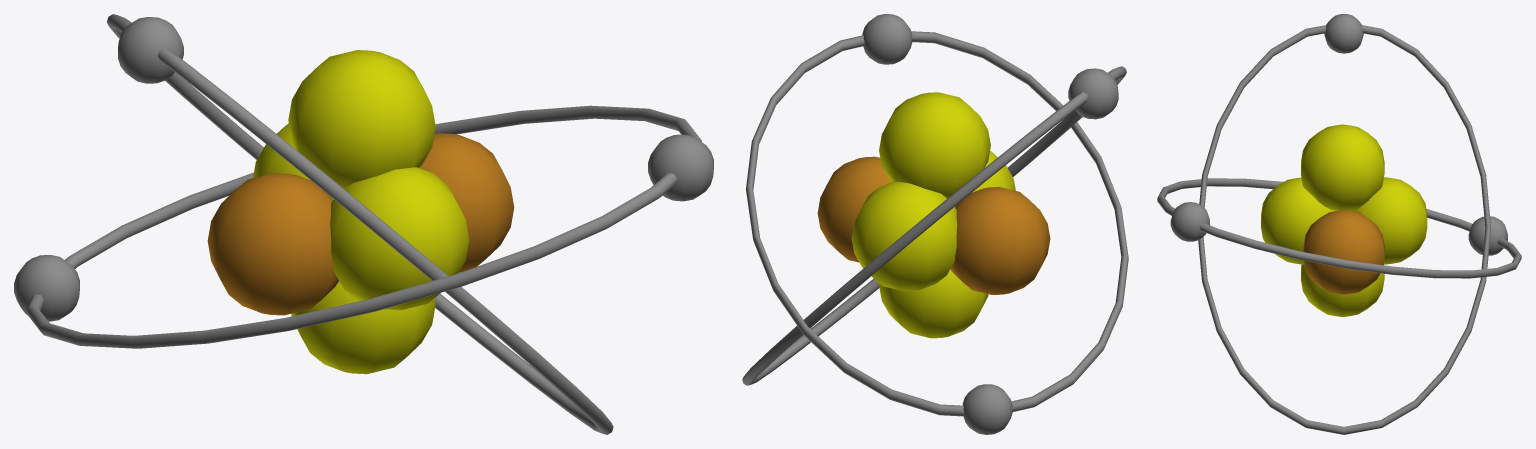
Rendered from atom.fbx.
The picture shows the model from 3 angles, left to right: view 1: azimuth 30°, elevation 25°; view 2: azimuth 150°, elevation 25°; view 3: azimuth 270°, elevation 25°; orthographic projection. The views are drawn at different scales.
Parts seen in each view (by area): view 1: pSphere9, pTorus3, pSphere4, pSphere13; view 2: pSphere9, pTorus3, pSphere4, pSphere13; view 3: pSphere9, pSphere13, pTorus3, pSphere4.
Boxes of the visible parts, bbox=[...] form: pSphere9: bbox=[253, 50, 469, 374]; pTorus3: bbox=[14, 105, 713, 348]; pSphere4: bbox=[207, 133, 514, 315]; pSphere13: bbox=[107, 14, 613, 434]; pSphere9: bbox=[851, 92, 1015, 338]; pTorus3: bbox=[746, 14, 1128, 434]; pSphere4: bbox=[817, 156, 1050, 294]; pSphere13: bbox=[742, 66, 1126, 385]; pSphere9: bbox=[1261, 124, 1427, 317]; pSphere13: bbox=[1198, 14, 1490, 434]; pTorus3: bbox=[1157, 178, 1521, 278]; pSphere4: bbox=[1303, 210, 1384, 294].
Size of the model in its own units: 8.15 by 7.65 by 8.53.
